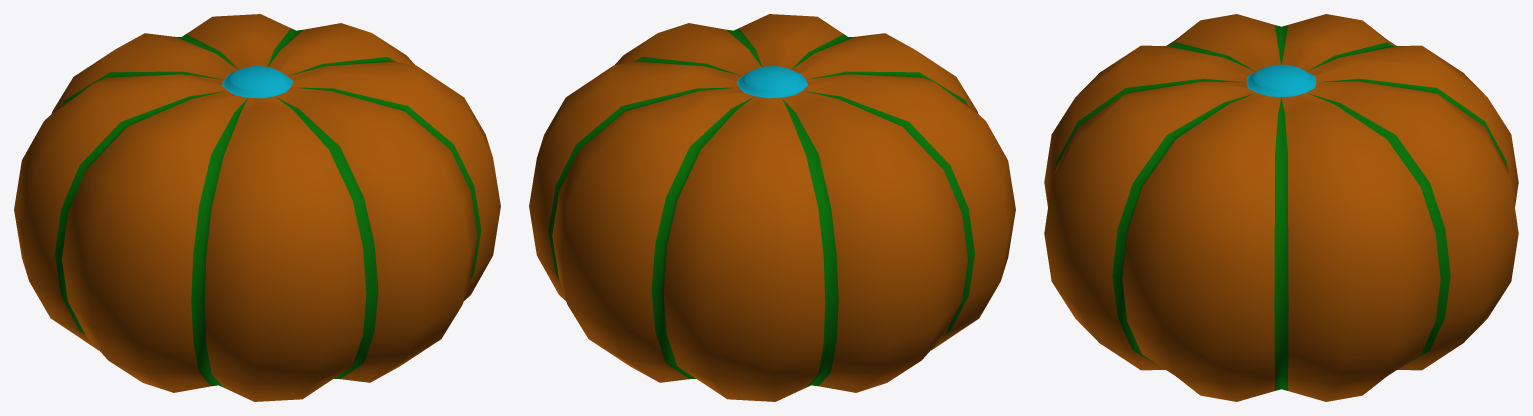
File: Sweetpumpkin.fbx
3 views of the same model, side by side, from view 1: azimuth 30°, elevation 25°; view 2: azimuth 150°, elevation 25°; view 3: azimuth 270°, elevation 25° (orthographic).
Parts seen in each view (by area): view 1: Sweet_pumpkin; view 2: Sweet_pumpkin; view 3: Sweet_pumpkin.
Boxes of the visible parts, left/top/right/bottom form: Sweet_pumpkin: left=14, top=14, right=500, bottom=401; Sweet_pumpkin: left=529, top=14, right=1015, bottom=401; Sweet_pumpkin: left=1044, top=14, right=1518, bottom=401.
Size of the model in its own units: 31.64 by 20.06 by 31.73.
